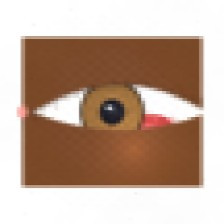hemorrhage_spot: (116, 101, 182, 154)
